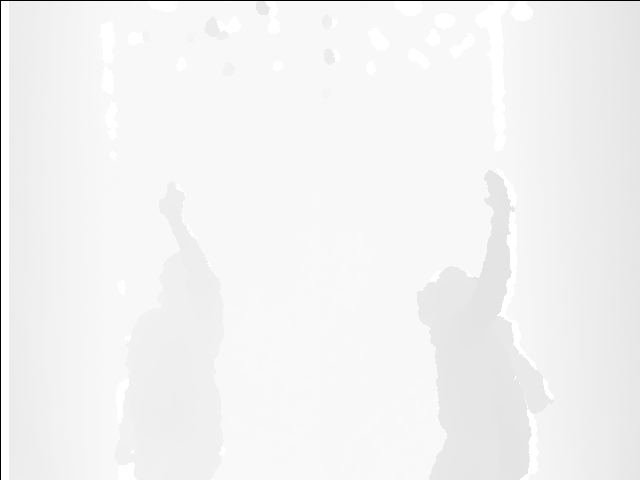hand: (154, 181, 188, 225), (483, 167, 511, 214)
